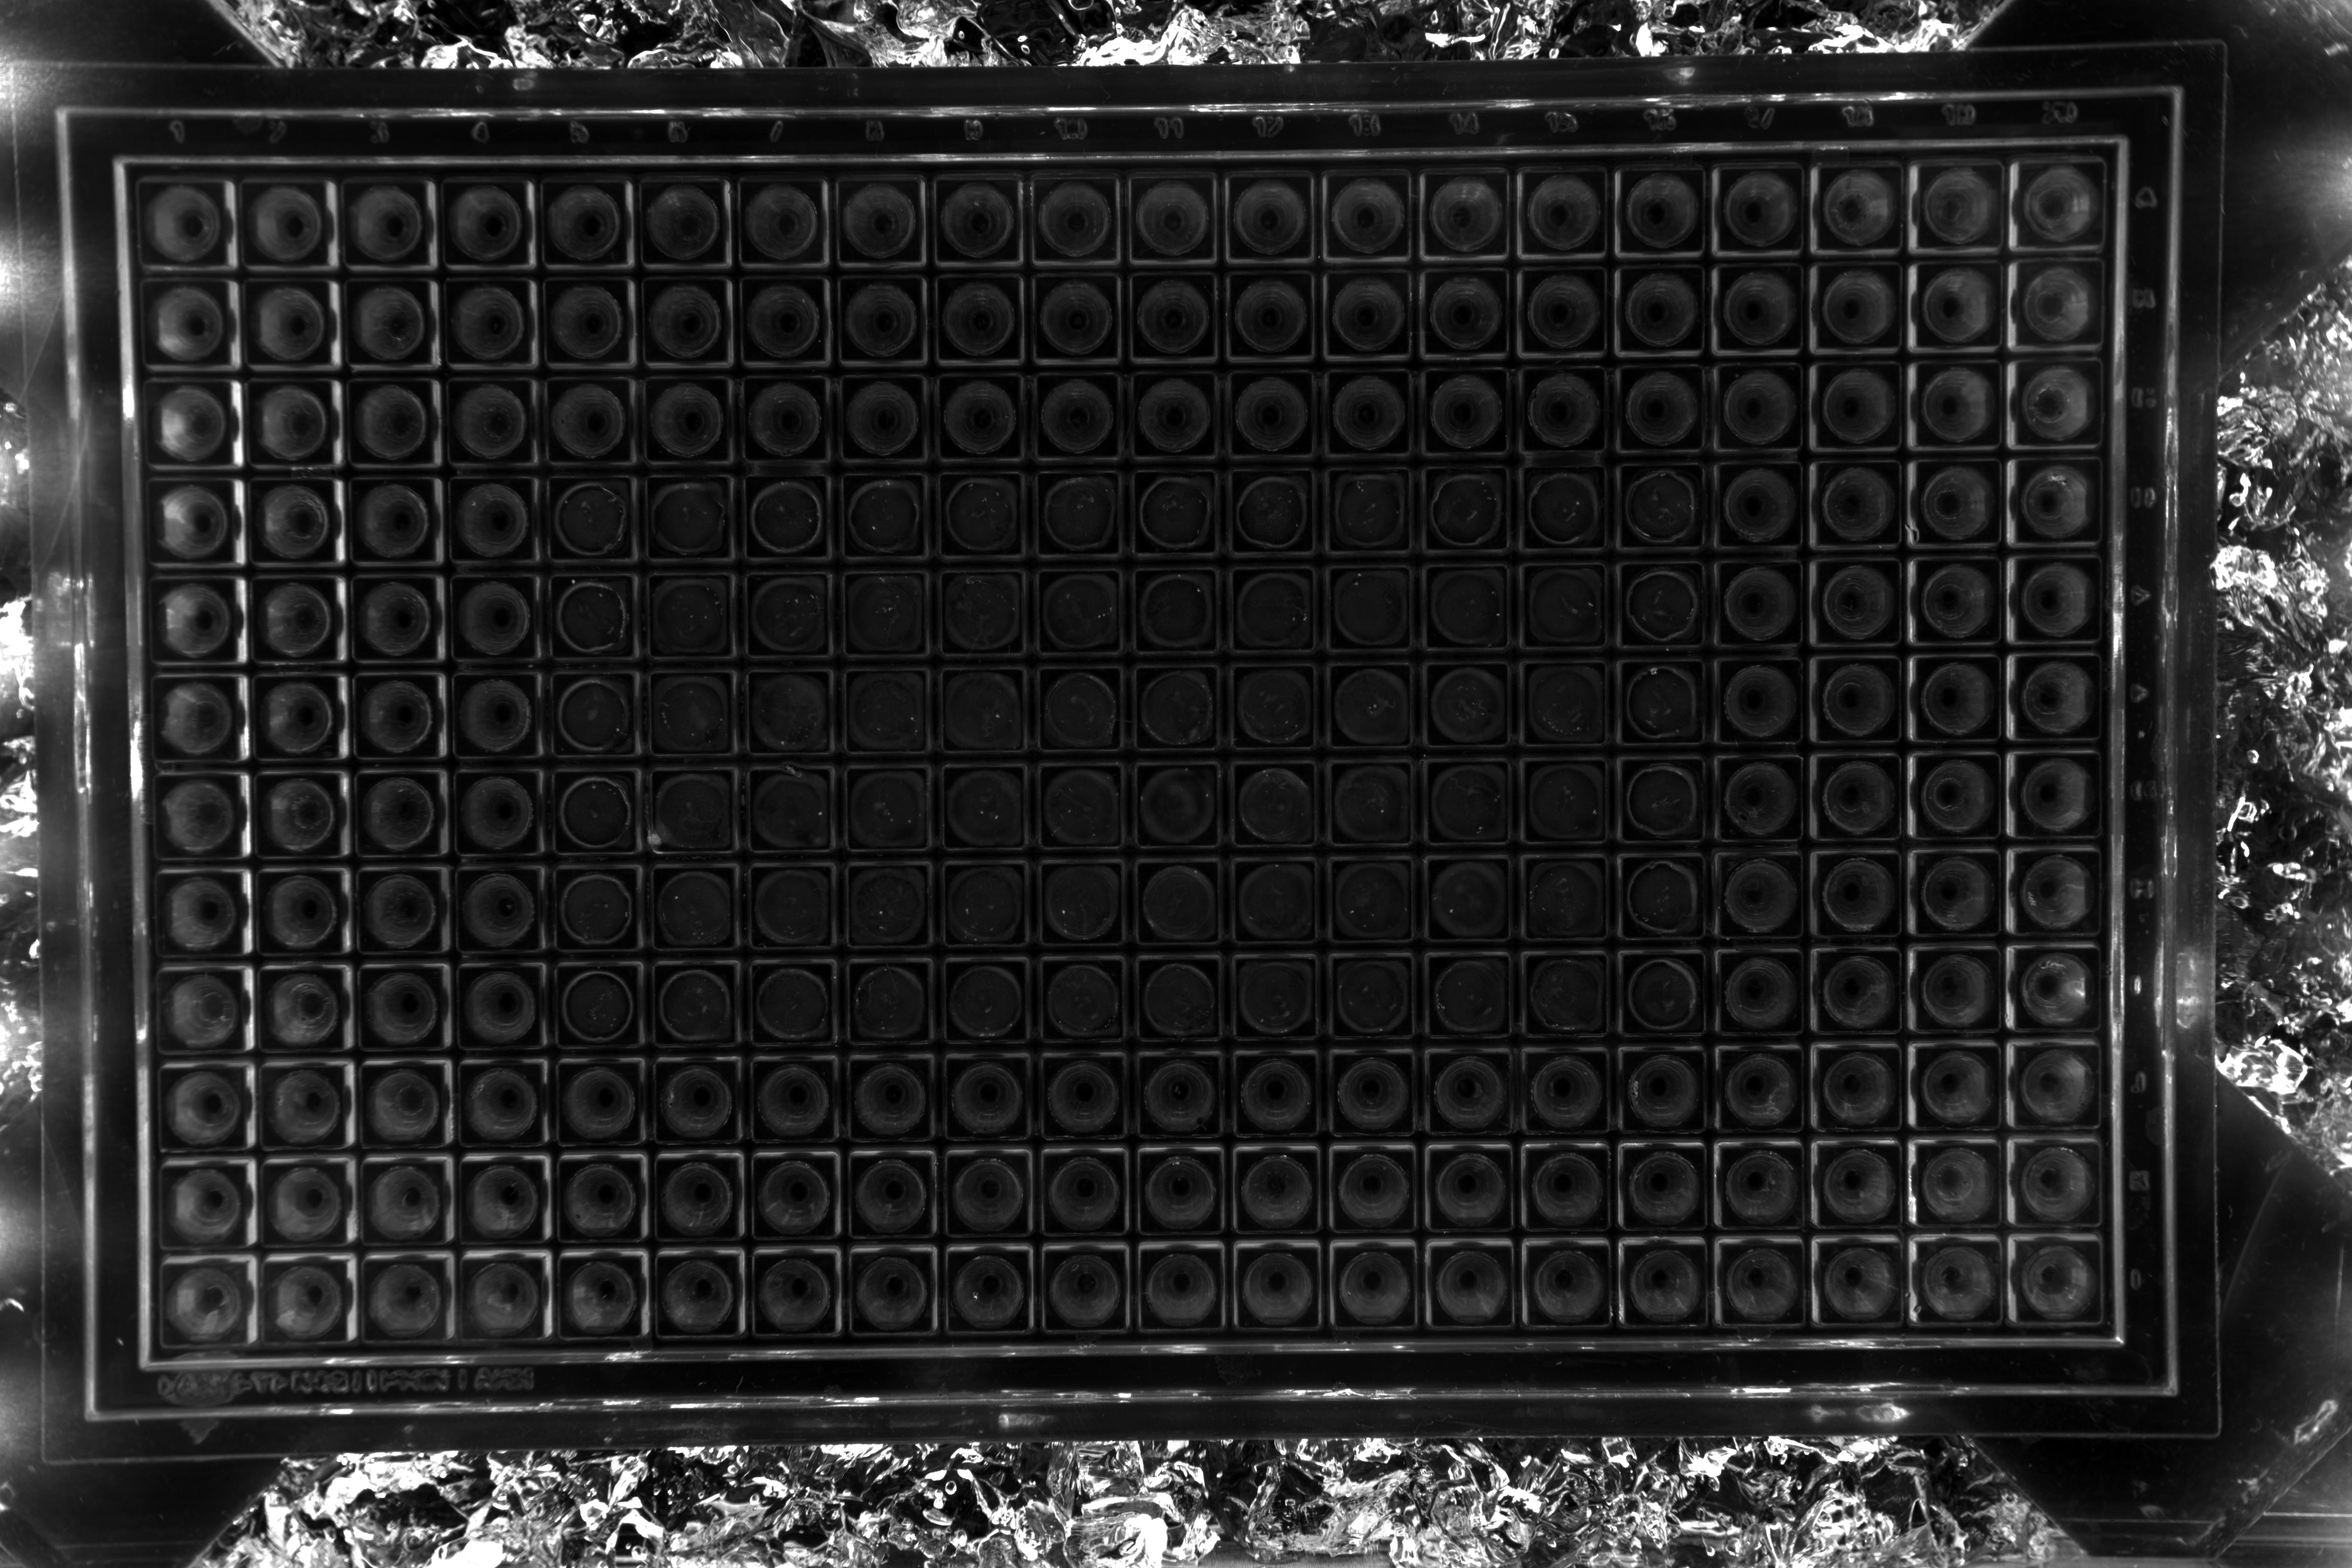WM_well: (297, 535, 387, 623), (497, 1118, 586, 1206), (789, 1115, 878, 1202), (205, 1218, 292, 1305), (290, 238, 378, 325), (693, 922, 780, 1010), (782, 142, 870, 229), (887, 1211, 975, 1298), (1176, 1113, 1263, 1200), (1272, 822, 1360, 910), (1466, 920, 1554, 1008), (1563, 920, 1650, 1008), (1564, 628, 1652, 716), (1566, 530, 1654, 618), (1566, 432, 1654, 520), (1661, 1115, 1748, 1202), (1759, 1017, 1846, 1104), (1766, 133, 1853, 220), (1857, 1115, 1944, 1202), (1860, 724, 1948, 812), (1958, 822, 2046, 910), (1960, 625, 2047, 712), (2056, 919, 2144, 1006)
